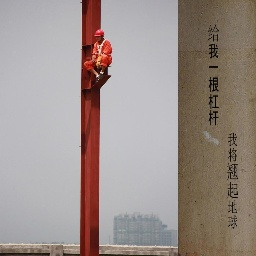helmet: (93, 27, 105, 42)
person: (84, 29, 115, 90)
